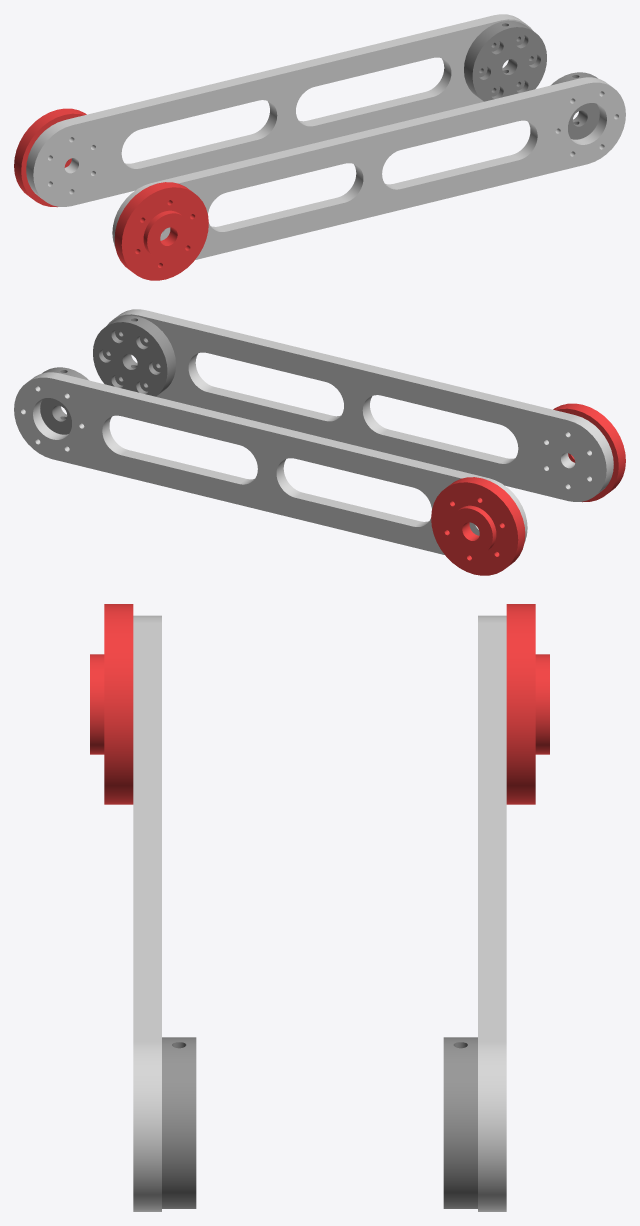
File: khau2.obj
The picture shows the model from 3 angles, top to bottom: view 1: azimuth 30°, elevation 25°; view 2: azimuth 150°, elevation 25°; view 3: azimuth 270°, elevation 25°; orthographic projection. The views are drawn at different scales.
Parts seen in each view (by area): view 1: khau2_1, khau2, dem co dinh v2_1, dem truc, dem co dinh v2, dem truc_1; view 2: khau2, khau2_1, dem co dinh v2, dem truc_1, dem co dinh v2_1, dem truc; view 3: khau2, khau2_1, dem co dinh v2, dem co dinh v2_1, dem truc, dem truc_1.
Boxes of the visible parts, bbox=[...] form: khau2_1: bbox=[26, 14, 532, 206]; khau2: bbox=[112, 77, 625, 259]; dem co dinh v2_1: bbox=[114, 182, 208, 280]; dem truc: bbox=[464, 20, 546, 101]; dem co dinh v2: bbox=[14, 108, 86, 207]; dem truc_1: bbox=[550, 72, 599, 139]; khau2: bbox=[107, 309, 613, 501]; khau2_1: bbox=[14, 372, 527, 554]; dem co dinh v2: bbox=[431, 477, 525, 575]; dem truc_1: bbox=[93, 315, 175, 396]; dem co dinh v2_1: bbox=[553, 403, 625, 502]; dem truc: bbox=[40, 367, 89, 434]; khau2: bbox=[133, 615, 161, 1211]; khau2_1: bbox=[478, 615, 506, 1211]; dem co dinh v2: bbox=[506, 604, 549, 804]; dem co dinh v2_1: bbox=[90, 604, 133, 804]; dem truc: bbox=[443, 1037, 477, 1208]; dem truc_1: bbox=[162, 1037, 196, 1208].
Size of the model in its own units: 411 by 70 by 160.
